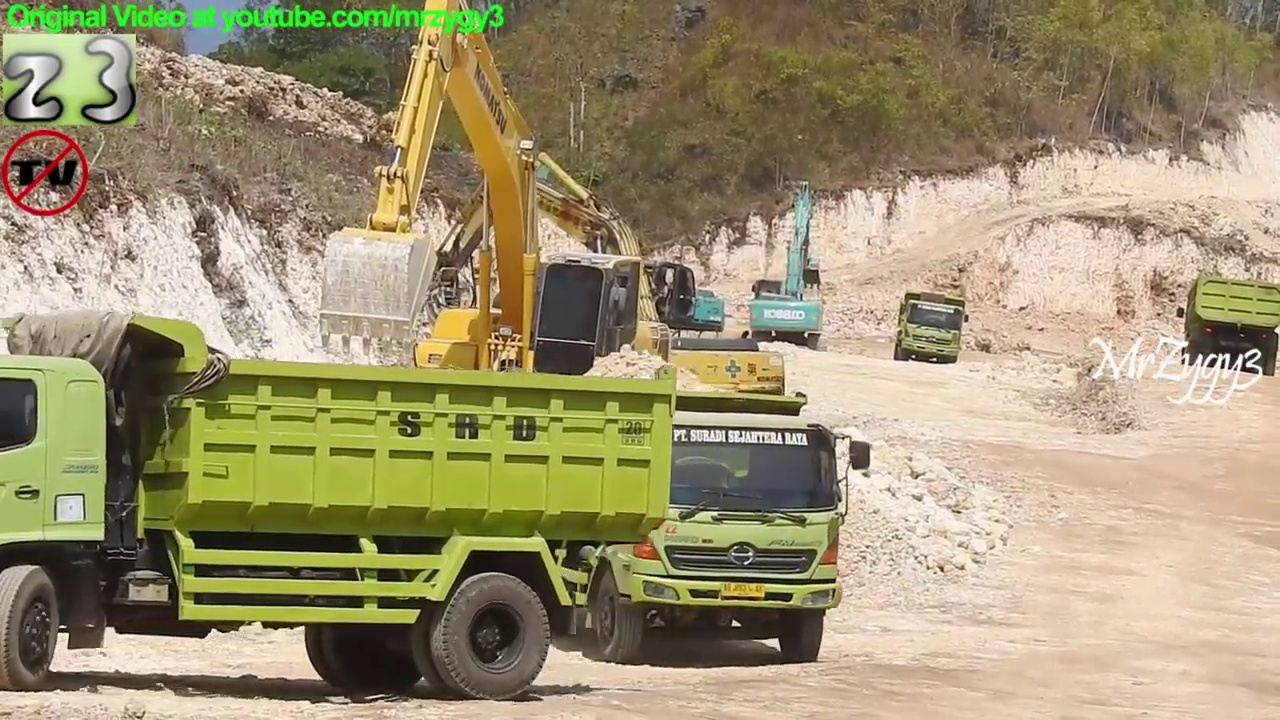excavator: (310, 2, 686, 499), (412, 127, 795, 472), (464, 145, 734, 383), (743, 176, 833, 359)
truck: (1, 310, 681, 707), (484, 369, 878, 669), (1171, 272, 1280, 386), (889, 288, 971, 369)
